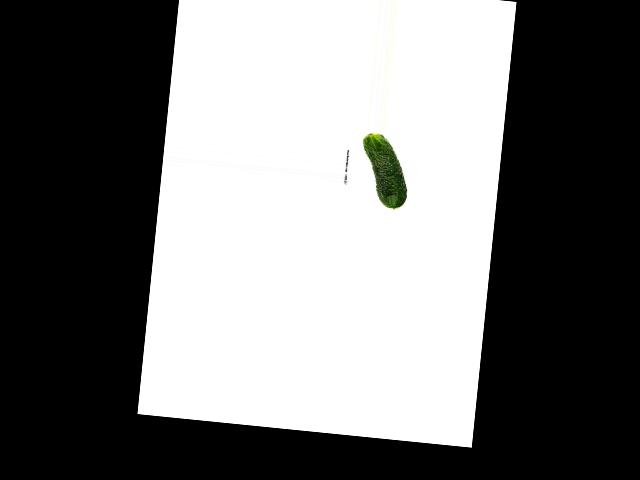cucumber: (356, 132, 412, 210)
